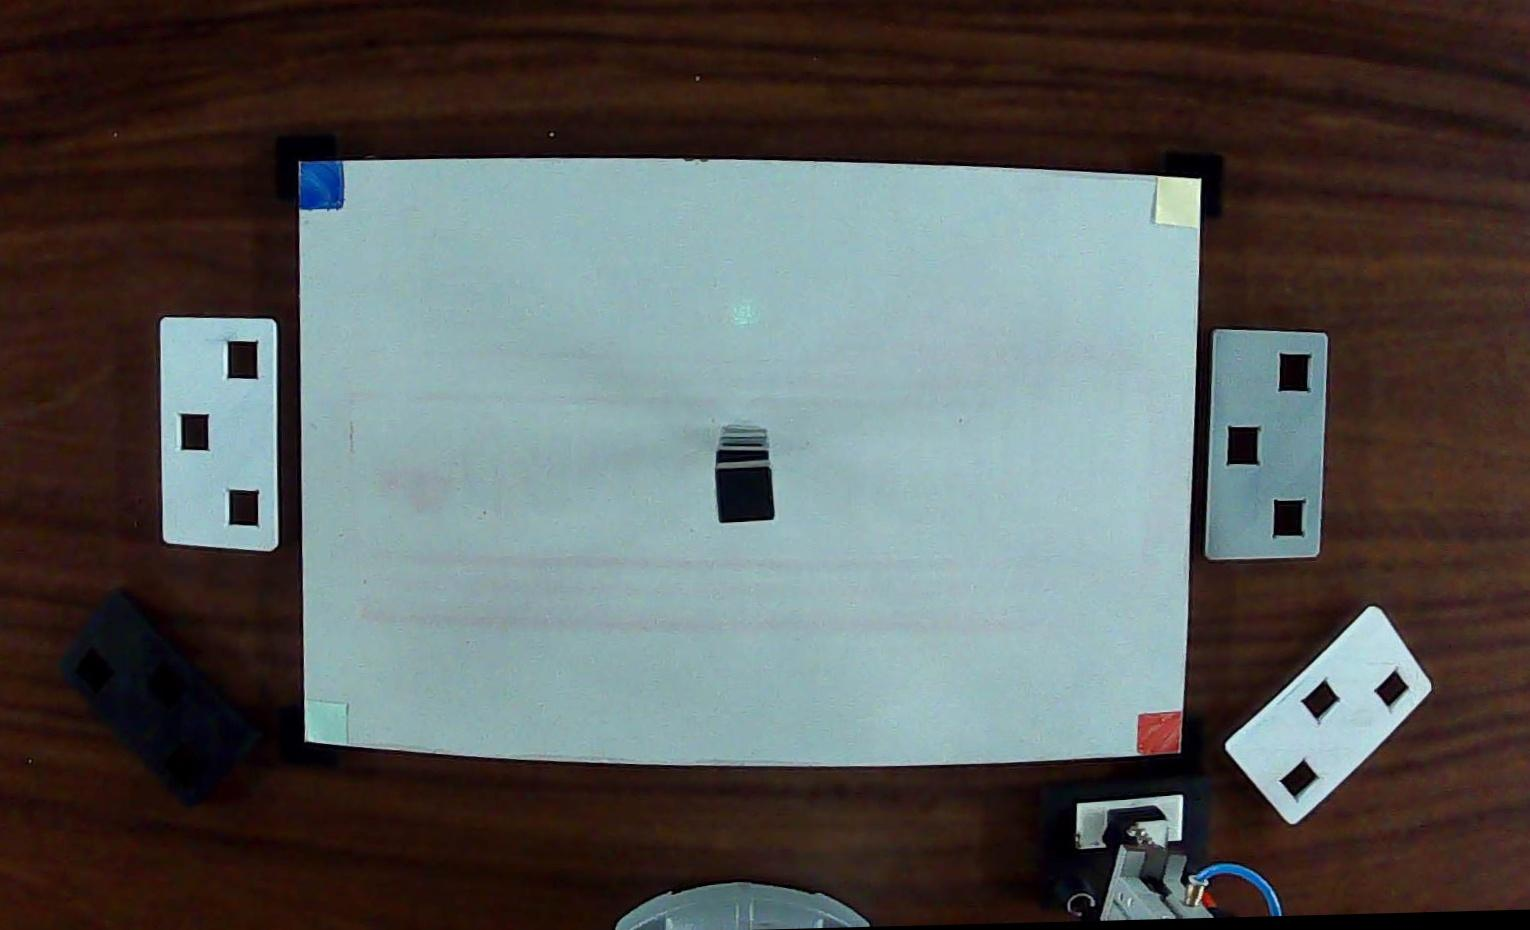pecaPreta: (713, 461, 779, 529)
